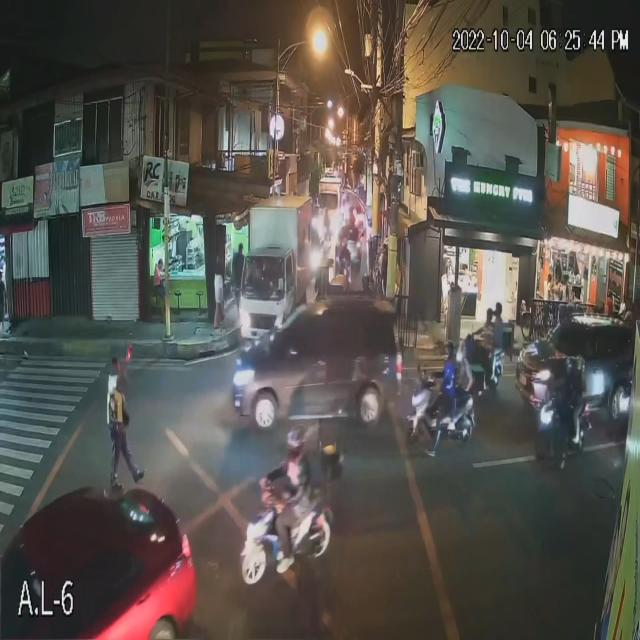Full-Faced: (283, 416, 306, 459), (441, 337, 459, 366), (560, 355, 579, 380), (574, 350, 586, 379)
Not-Wearing-Helmet: (492, 299, 503, 317), (486, 308, 494, 324)
